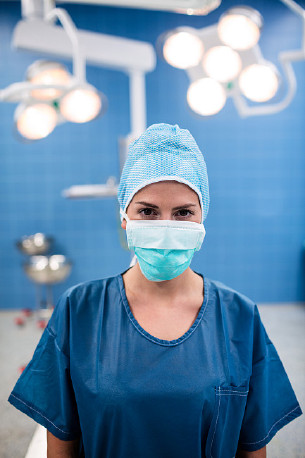face_mask: (126, 166, 203, 278)
